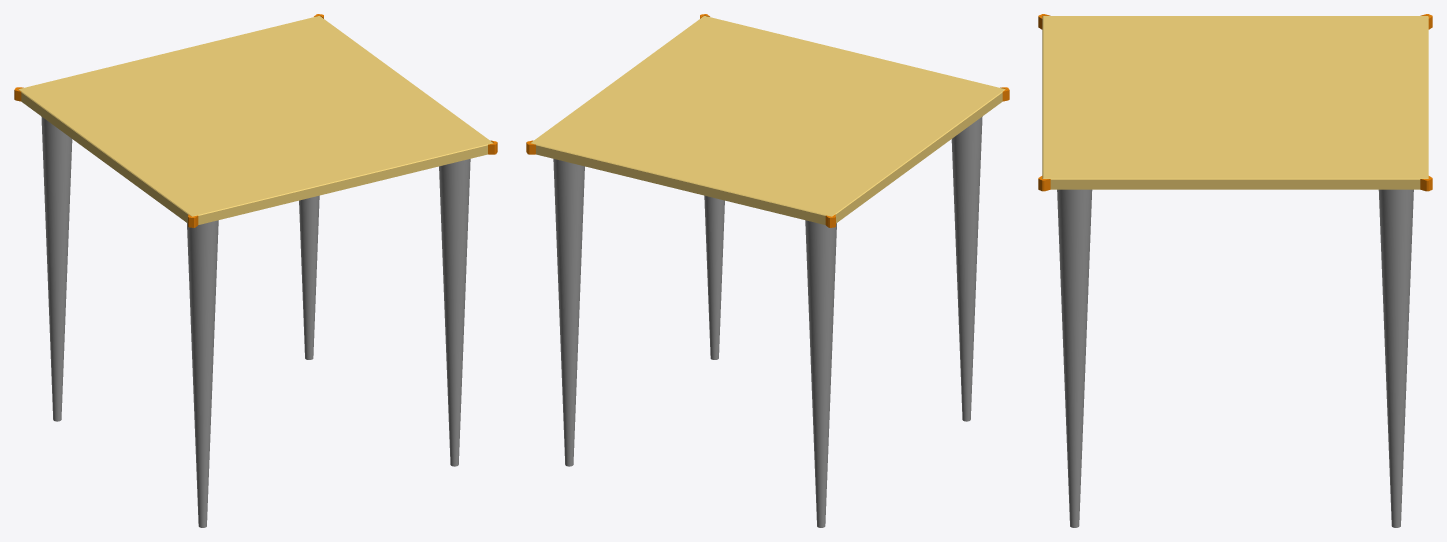
Rendered from TableExample.dae.
3 views of the same model, side by side, from view 1: azimuth 30°, elevation 25°; view 2: azimuth 150°, elevation 25°; view 3: azimuth 270°, elevation 25° (orthographic). The views are drawn at different scales.
Parts seen in each view (by area): view 1: 5cd1a67dc1378b16056ced2c (×5); view 2: 5cd1a67dc1378b16056ced2c (×5); view 3: 5cd1a67dc1378b16056ced2c (×3).
Boxes of the visible parts, x1=… form: 5cd1a67dc1378b16056ced2c (×5): x1=18, y1=16, x2=493, y2=527; 5cd1a67dc1378b16056ced2c (×5): x1=530, y1=16, x2=1005, y2=527; 5cd1a67dc1378b16056ced2c (×3): x1=1042, y1=16, x2=1428, y2=527.
Bounding box in the file's own units: 0.6223 × 0.6223 × 0.6287.
